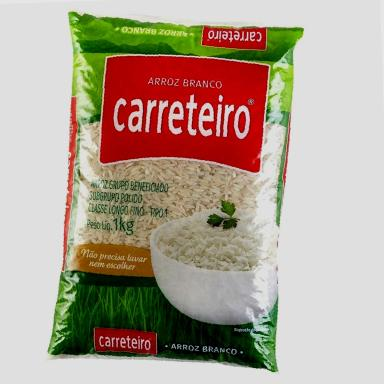rice package: (49, 13, 302, 370)
